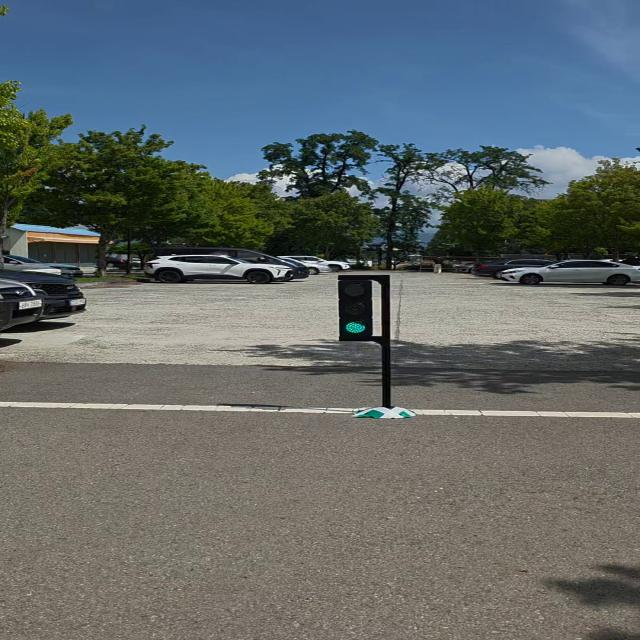green: (339, 276, 378, 341)
